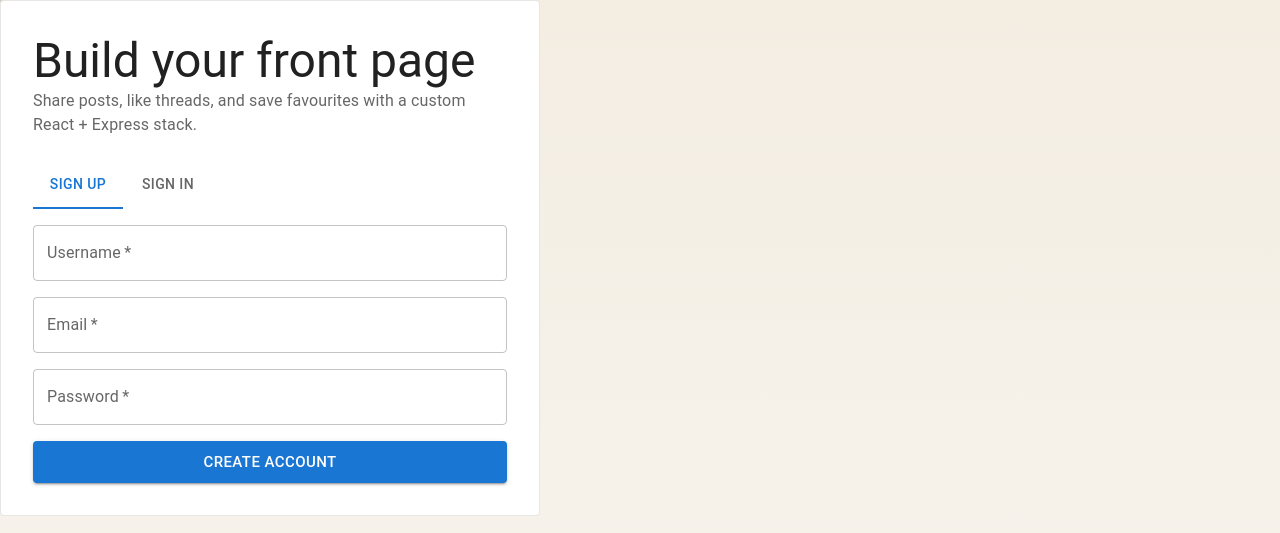
Test: AuthForm › hides Username field in signin mode
This screenshot has width=1280, height=533.
Click the tab "Sign in". click: (168, 185)
box: [123,161,213,209]
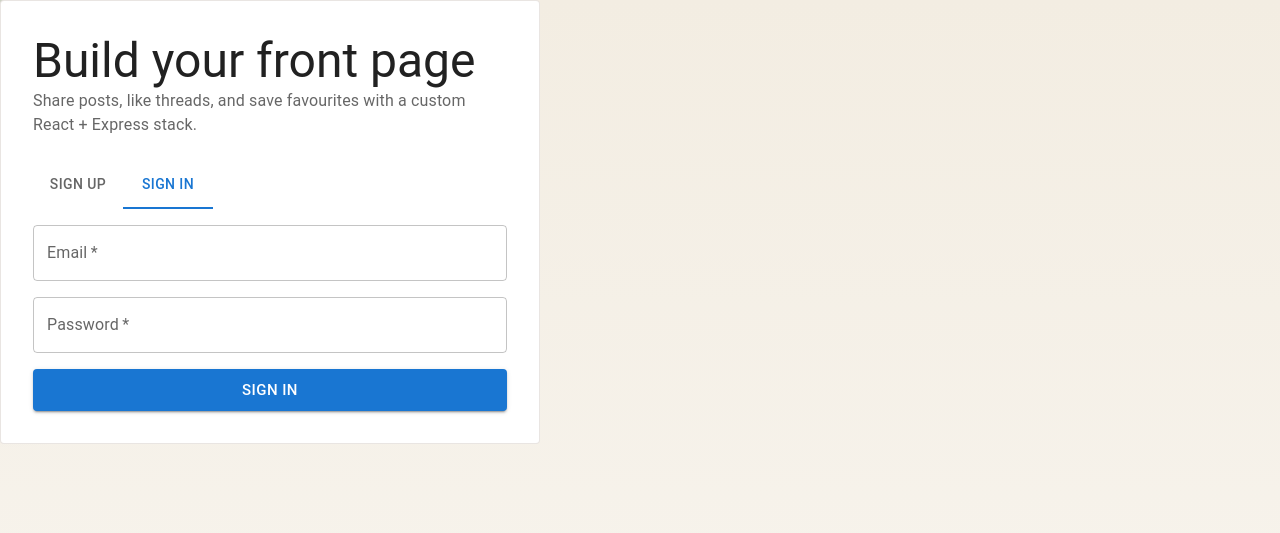
Now the label labelled "Username" is gone
